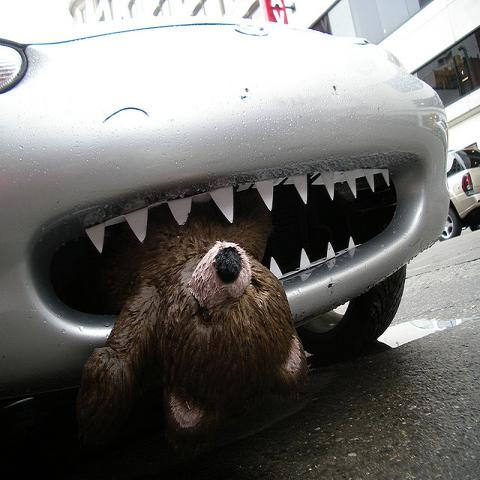car: (0, 18, 452, 466), (439, 146, 480, 242)
